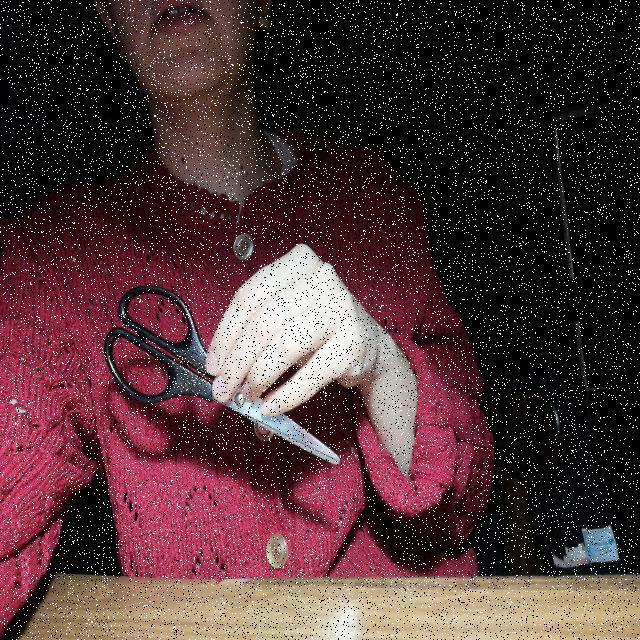scissors: (88, 260, 352, 482)
